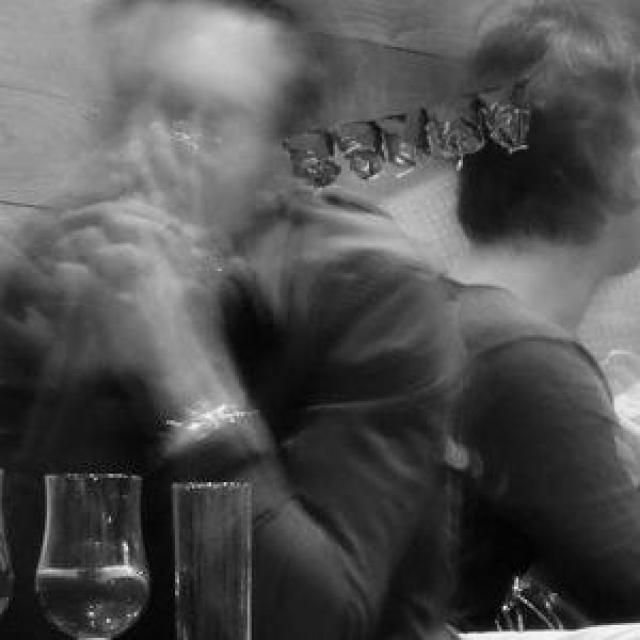miscellaneous trash: (278, 76, 529, 186)
